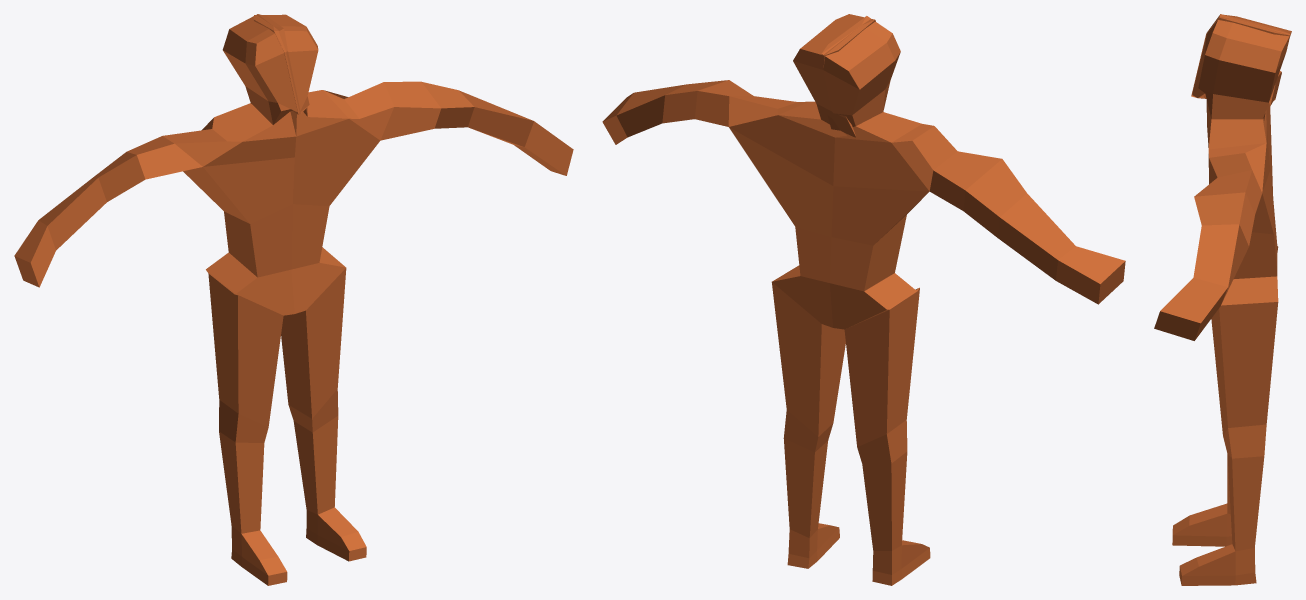
File: челик (2).obj
3 views of the same model, side by side, from view 1: azimuth 30°, elevation 25°; view 2: azimuth 150°, elevation 25°; view 3: azimuth 270°, elevation 25° (orthographic). The views are drawn at different scales.
Visible parts, largest first — view 1: Cube; view 2: Cube; view 3: Cube.
Part boxes in pixels (x1,y1,x2,y2): Cube: (14, 14, 573, 585); Cube: (602, 14, 1125, 585); Cube: (1154, 14, 1291, 585).
Bounding box in the file's own units: 18.86 × 18.61 × 4.32.
